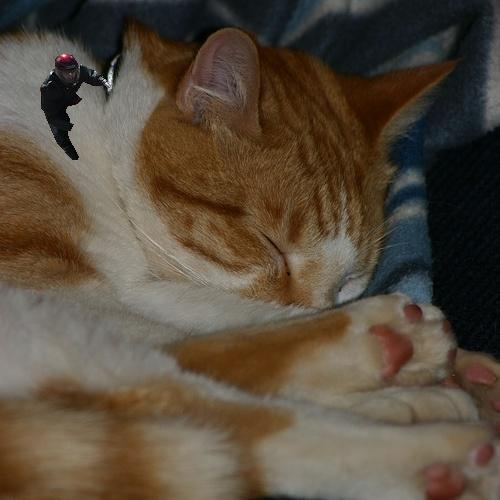tampered: (41, 54, 112, 160)
